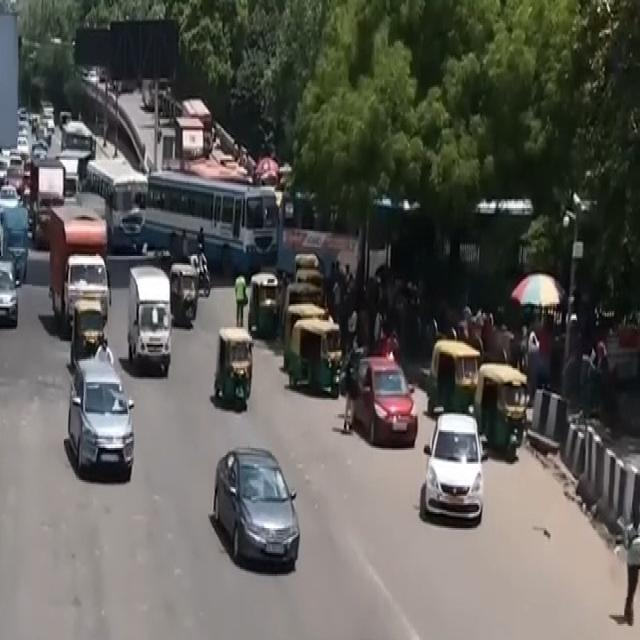car: (200, 431, 312, 582), (56, 345, 145, 489), (409, 402, 499, 532), (331, 351, 428, 454), (119, 267, 178, 382), (61, 249, 115, 339), (0, 254, 24, 336), (0, 631, 104, 640)
rickshaw: (207, 320, 260, 420)
